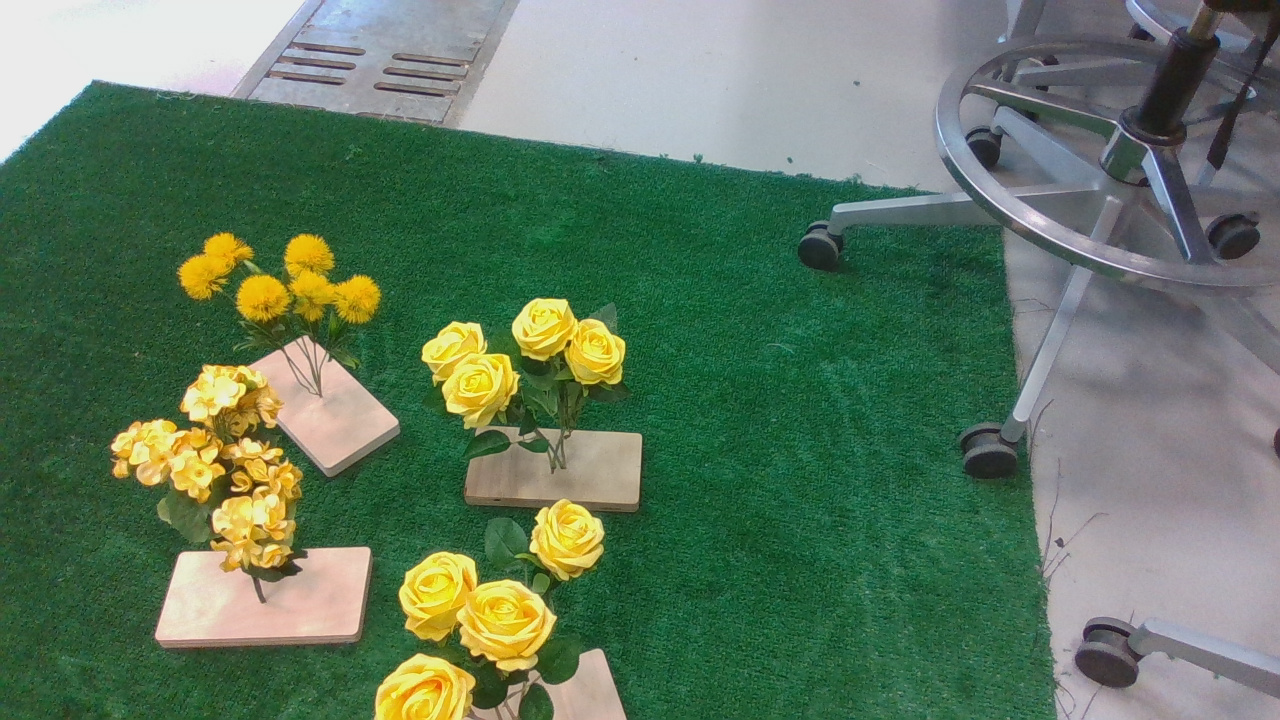dandelion: (173, 232, 397, 362)
geranium: (105, 366, 343, 598)
rose: (379, 497, 630, 720), (419, 299, 638, 476)
